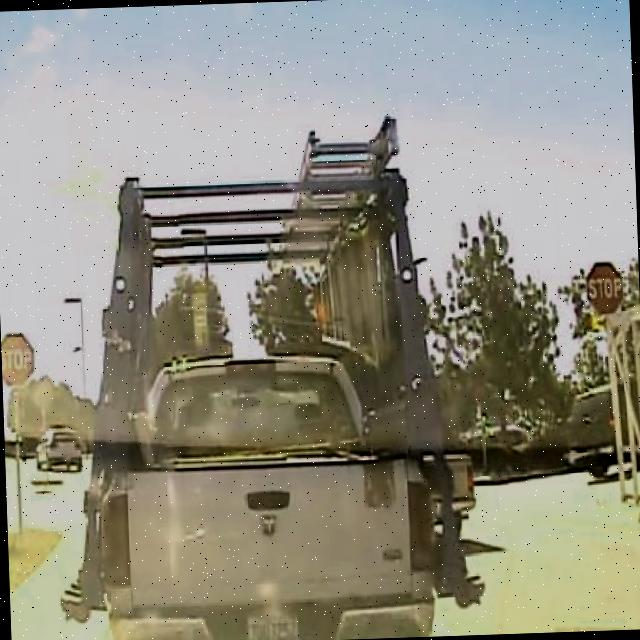Stop: (584, 258, 624, 316)
